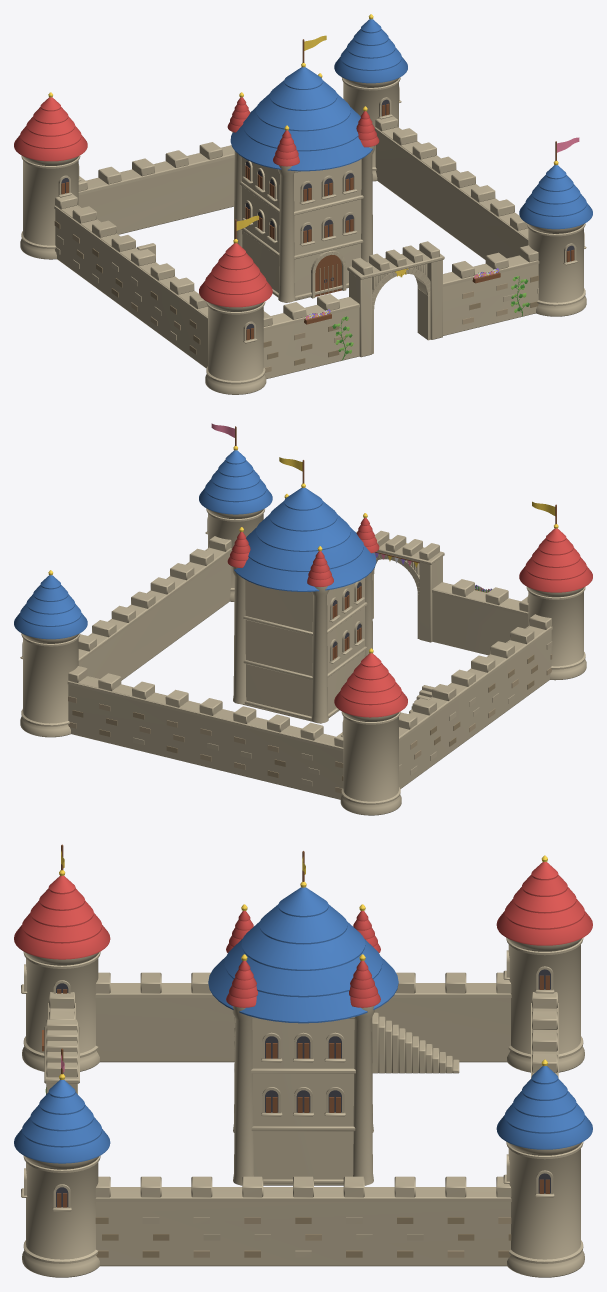
Rendered from castillo.glb.
3 views of the same model, one above another, from view 1: azimuth 30°, elevation 25°; view 2: azimuth 150°, elevation 25°; view 3: azimuth 270°, elevation 25° (orthographic). The views are drawn at different scales.
Visible parts, largest first — view 1: Piedra miel, Tejados esmaltados, Molduras y dovelas, Carpintería, Ventanas y herrajes, Hiedra, Flores y emblemas; view 2: Piedra miel, Tejados esmaltados, Molduras y dovelas, Carpintería; view 3: Piedra miel, Tejados esmaltados, Molduras y dovelas, Carpintería, Ventanas y herrajes.
Boxes of the visible parts, left/top/right/bottom form: Piedra miel: left=20, top=78, right=586, bottom=394; Tejados esmaltados: left=14, top=19, right=592, bottom=307; Molduras y dovelas: left=21, top=77, right=586, bottom=384; Carpintería: left=61, top=39, right=574, bottom=340; Ventanas y herrajes: left=61, top=99, right=574, bottom=338; Hiedra: left=307, top=268, right=529, bottom=360; Flores y emblemas: left=48, top=14, right=558, bottom=319; Piedra miel: left=20, top=509, right=586, bottom=815; Tejados esmaltados: left=14, top=450, right=592, bottom=717; Molduras y dovelas: left=20, top=508, right=585, bottom=804; Carpintería: left=235, top=426, right=556, bottom=659; Piedra miel: left=22, top=938, right=584, bottom=1277; Tejados esmaltados: left=14, top=862, right=592, bottom=1163; Molduras y dovelas: left=21, top=938, right=583, bottom=1263; Carpintería: left=42, top=844, right=549, bottom=1207; Ventanas y herrajes: left=56, top=969, right=550, bottom=1207.
Size of the model in its own units: 45.58 by 26.8 by 45.58.
